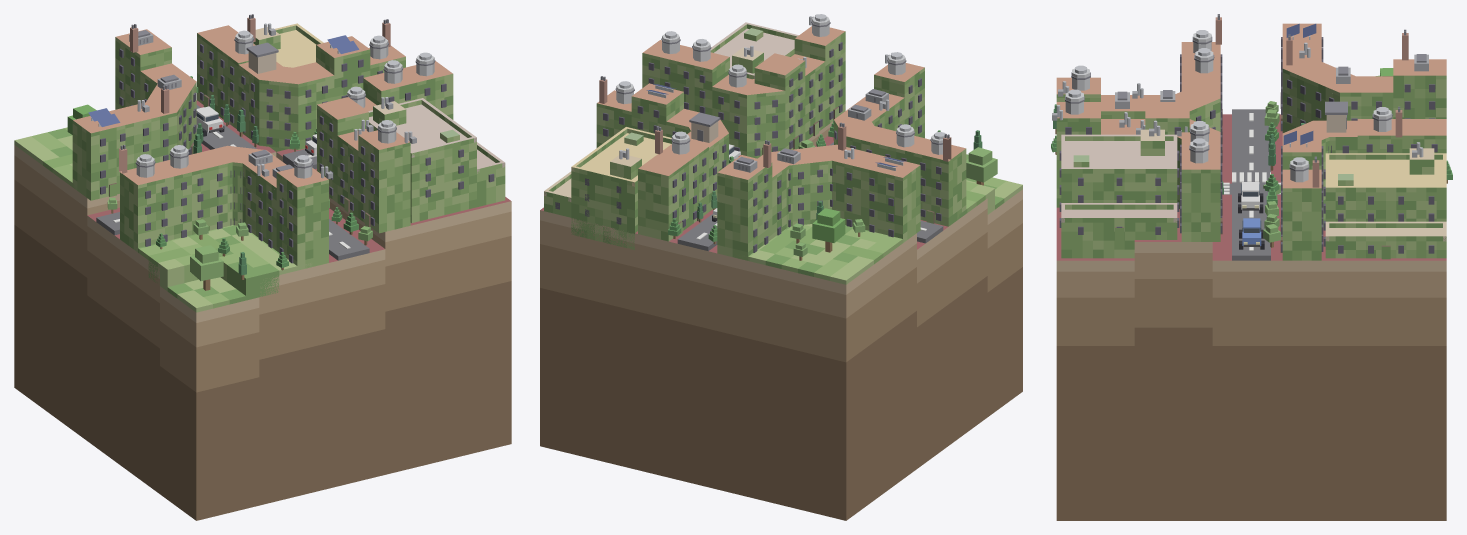
File: block_19_greenfacade_55.glb
The picture shows the model from 3 angles, left to right: view 1: azimuth 30°, elevation 25°; view 2: azimuth 150°, elevation 25°; view 3: azimuth 270°, elevation 25°; orthographic projection. The views are drawn at different scales.
Visible parts, largest first — view 1: Patch_MidRight_b19_GF, Cerda_MidRight_b19_GF, Insets_MidRight_b19_GF, Green_MidRight_b19_GF, CerdaRoofProps_MidRight_b19_GF, Roads_MidRight_b19_GF, Asset_Tree_Round.077_GF, Asset_Car.040_GF; view 2: Patch_MidRight_b19_GF, Cerda_MidRight_b19_GF, Insets_MidRight_b19_GF, CerdaRoofProps_MidRight_b19_GF, Green_MidRight_b19_GF, Roads_MidRight_b19_GF, Asset_Tree_Round.065_GF, Asset_Tree_Round.077_GF; view 3: Patch_MidRight_b19_GF, Cerda_MidRight_b19_GF, Insets_MidRight_b19_GF, CerdaRoofProps_MidRight_b19_GF, Roads_MidRight_b19_GF, Asset_Car.041_GF, Asset_Car.042_GF.
Boxes of the visible parts, bbox=[...] form: Patch_MidRight_b19_GF: bbox=[14, 100, 511, 520]; Cerda_MidRight_b19_GF: bbox=[72, 25, 453, 269]; Insets_MidRight_b19_GF: bbox=[253, 23, 505, 223]; Green_MidRight_b19_GF: bbox=[14, 127, 312, 312]; CerdaRoofProps_MidRight_b19_GF: bbox=[88, 14, 435, 178]; Roads_MidRight_b19_GF: bbox=[96, 105, 369, 260]; Asset_Tree_Round.077_GF: bbox=[190, 245, 223, 290]; Asset_Car.040_GF: bbox=[196, 106, 224, 136]; Patch_MidRight_b19_GF: bbox=[540, 121, 1022, 520]; Cerda_MidRight_b19_GF: bbox=[596, 26, 966, 260]; Insets_MidRight_b19_GF: bbox=[544, 22, 798, 249]; CerdaRoofProps_MidRight_b19_GF: bbox=[599, 14, 951, 172]; Green_MidRight_b19_GF: bbox=[734, 154, 1022, 284]; Roads_MidRight_b19_GF: bbox=[677, 142, 943, 251]; Asset_Tree_Round.065_GF: bbox=[812, 208, 845, 252]; Asset_Tree_Round.077_GF: bbox=[966, 147, 997, 185]; Patch_MidRight_b19_GF: bbox=[1056, 114, 1446, 520]; Cerda_MidRight_b19_GF: bbox=[1056, 23, 1446, 260]; Insets_MidRight_b19_GF: bbox=[1059, 129, 1446, 259]; CerdaRoofProps_MidRight_b19_GF: bbox=[1052, 14, 1428, 187]; Roads_MidRight_b19_GF: bbox=[1223, 109, 1270, 260]; Asset_Car.041_GF: bbox=[1238, 182, 1263, 213]; Asset_Car.042_GF: bbox=[1239, 218, 1264, 249].
Bounding box in the file's own units: 9.51 × 10.16 × 9.78.
